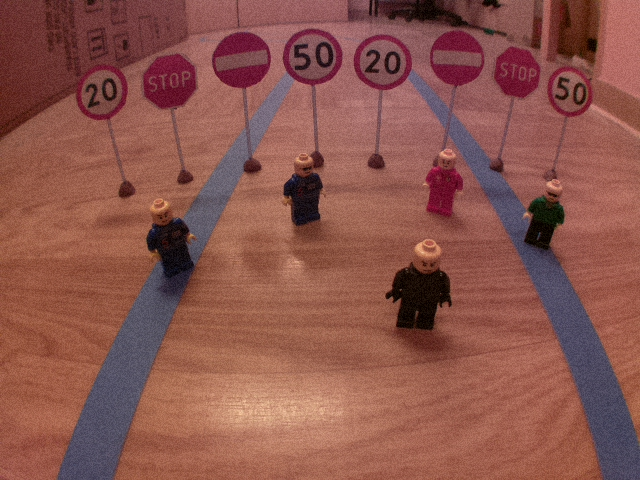LEGO_person: (383, 238, 456, 335), (143, 196, 200, 279), (281, 150, 327, 227), (520, 178, 567, 252), (421, 146, 466, 218)
ogr_20: (350, 31, 415, 91), (74, 62, 130, 123)
ogr_50: (281, 26, 344, 85), (546, 64, 595, 118)
stop: (141, 50, 200, 111), (491, 43, 544, 101)
zakaz: (211, 30, 272, 92), (428, 29, 486, 88)
